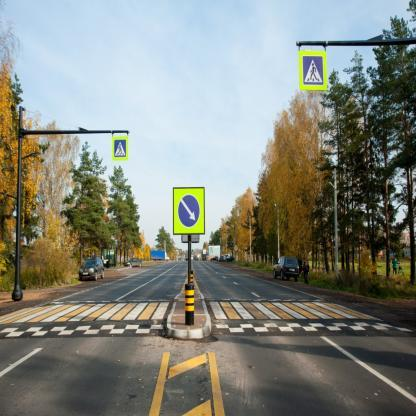road_sign: (173, 187, 205, 234), (299, 51, 326, 90), (112, 136, 128, 160)
